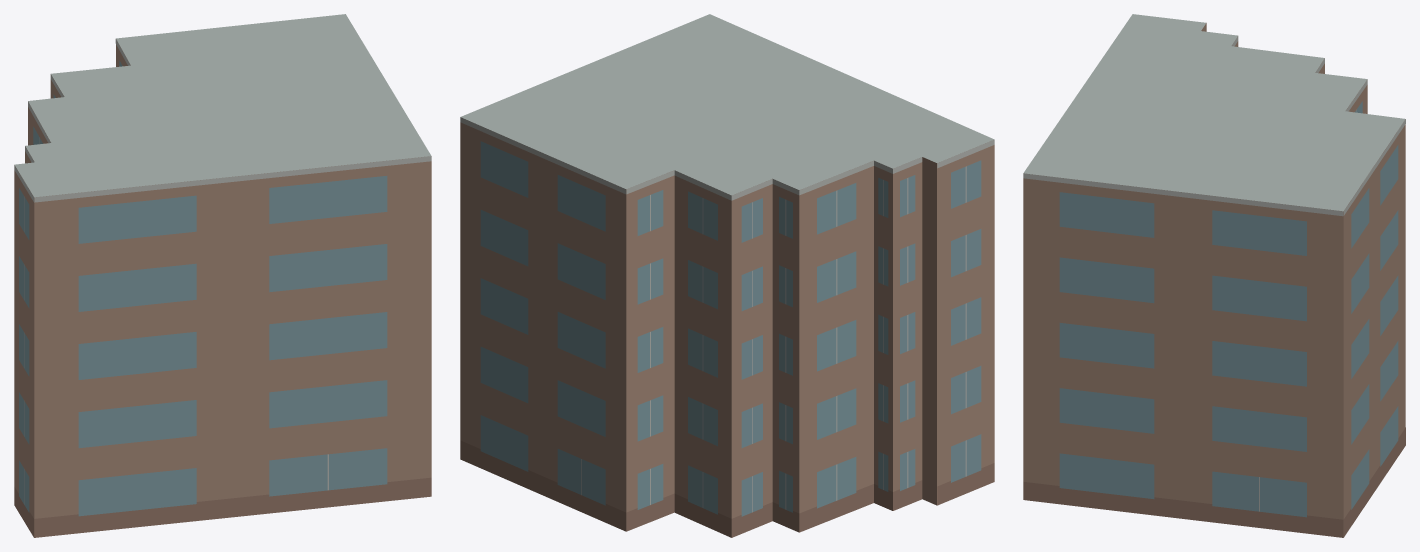
The model's file is survey-upis-32880077.glb.
The picture shows the model from 3 angles, left to right: view 1: azimuth 30°, elevation 25°; view 2: azimuth 150°, elevation 25°; view 3: azimuth 270°, elevation 25°; orthographic projection. The views are drawn at different scales.
Visible parts, largest first — view 1: survey-upis-32880077.tmp; view 2: survey-upis-32880077.tmp; view 3: survey-upis-32880077.tmp.
Part boxes in pixels (x1,y1,x2,y2): survey-upis-32880077.tmp: (14,14,431,537); survey-upis-32880077.tmp: (460,14,994,537); survey-upis-32880077.tmp: (1023,14,1405,537).
Bounding box in the file's own units: 20.61 × 15.9 × 16.89.
